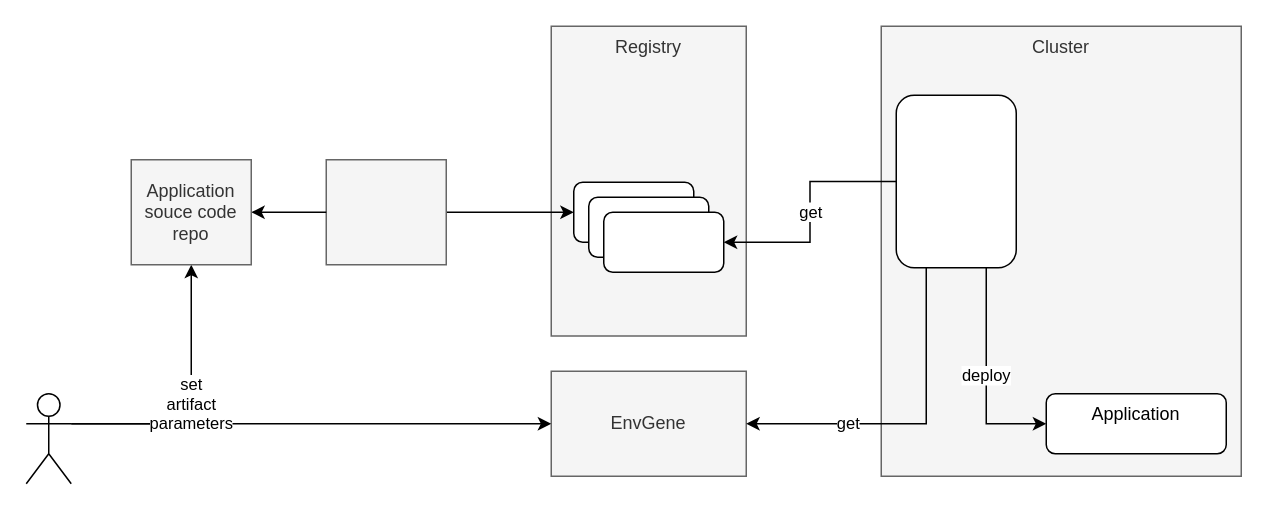
Some shapes in this 1268 by 510 pixel diagram are drawn without their labels. Each missing label, with the box of its shape:
Application artifacts: (602, 211, 724, 272)
ArgoCD: (895, 94, 1016, 268)
Builder: (325, 158, 446, 265)
